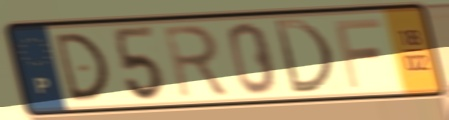0: (226, 20, 279, 98)
5: (108, 23, 169, 104)
D: (270, 17, 337, 96), (50, 30, 112, 105)
F: (331, 16, 384, 91)
R: (160, 22, 233, 101)
